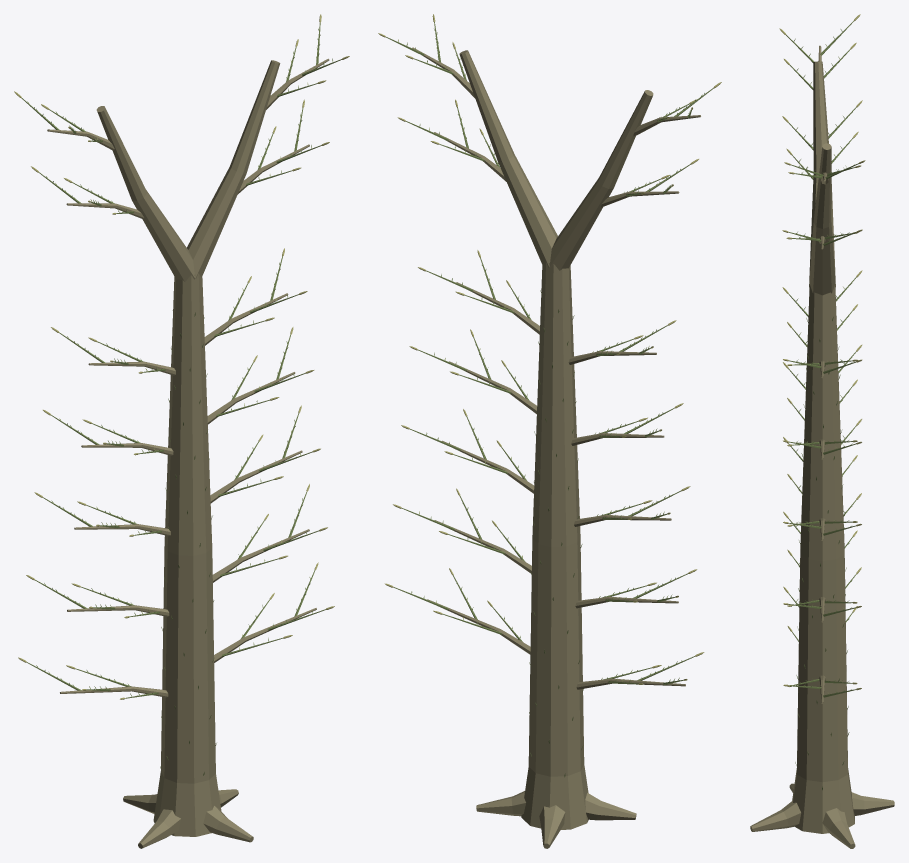
File: paralycopodites.glb
The picture shows the model from 3 angles, left to right: view 1: azimuth 30°, elevation 25°; view 2: azimuth 150°, elevation 25°; view 3: azimuth 270°, elevation 25°; orthographic projection. The views are drawn at different scales.
Parts seen in each view (by area): view 1: opposite-row-compact-lycopsid-scaffold, small-persistent-microphylls; view 2: opposite-row-compact-lycopsid-scaffold, small-persistent-microphylls; view 3: opposite-row-compact-lycopsid-scaffold, small-persistent-microphylls.
Boxes of the visible parts, x1=… form: opposite-row-compact-lycopsid-scaffold: x1=14, y1=14, x2=349, y2=848; small-persistent-microphylls: x1=27, y1=28, x2=332, y2=775; opposite-row-compact-lycopsid-scaffold: x1=378, y1=14, x2=721, y2=848; small-persistent-microphylls: x1=392, y1=29, x2=704, y2=777; opposite-row-compact-lycopsid-scaffold: x1=750, y1=14, x2=894, y2=848; small-persistent-microphylls: x1=794, y1=26, x2=854, y2=790.
Bounding box in the file's own units: 1.93 × 4.51 × 0.8061.
